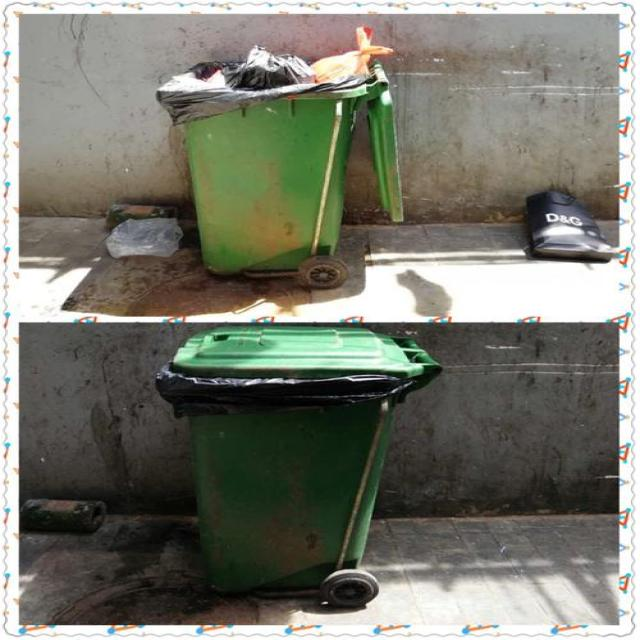garbage: (524, 191, 614, 260), (105, 216, 182, 257)
garbage_bin: (155, 325, 441, 590)
overflow: (155, 24, 404, 270)
